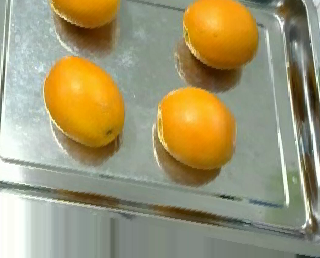Orange: (42, 55, 125, 148), (155, 86, 236, 169), (181, 1, 260, 70)
